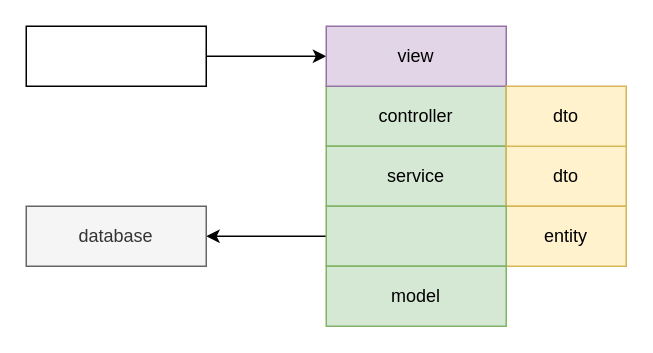
Some shapes in this 653 by 353 pixel diagram are drawn without their labels. The box of each missing label's shape, as (x1, y1, x2, y2) in pixels:
repository: (325, 205, 506, 266)
request json: (25, 25, 206, 86)
